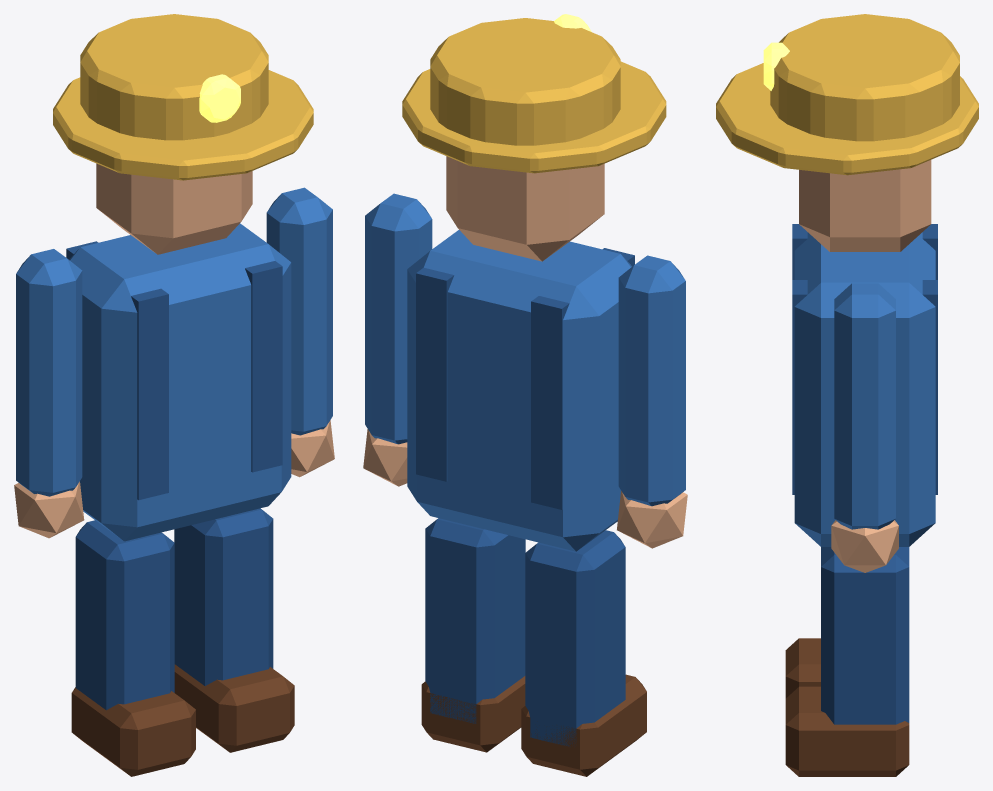
File: SM_Character_Miner.fbx
3 views of the same model, side by side, from view 1: azimuth 30°, elevation 25°; view 2: azimuth 150°, elevation 25°; view 3: azimuth 270°, elevation 25° (orthographic).
Parts seen in each view (by area): view 1: SM_Character_Miner; view 2: SM_Character_Miner; view 3: SM_Character_Miner.
Part boxes in pixels (x1,y1,x2,y2): SM_Character_Miner: [14, 14, 334, 776]; SM_Character_Miner: [363, 14, 687, 776]; SM_Character_Miner: [716, 14, 978, 776].
Size of the model in its own units: 0.821 by 1.73 by 0.5948.
